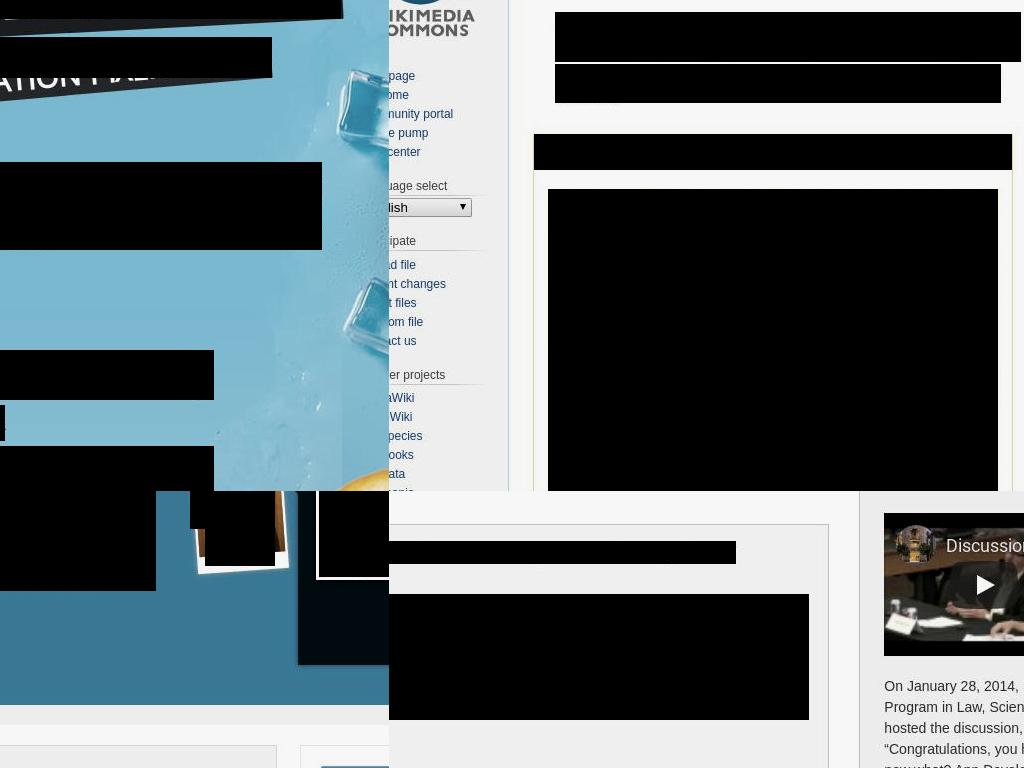button: (0, 350, 214, 400), (0, 446, 214, 491), (205, 491, 275, 566)
field: (389, 197, 473, 217)
heading: (389, 524, 830, 768), (389, 0, 513, 491), (0, 37, 272, 78), (389, 541, 736, 564), (389, 178, 491, 193), (389, 233, 491, 248), (389, 367, 491, 382)
iframe: (884, 513, 1024, 656)
image: (548, 189, 998, 491), (319, 491, 389, 577), (190, 491, 257, 529)
link: (555, 64, 1001, 103), (718, 64, 798, 81), (644, 64, 715, 81), (389, 106, 454, 121), (389, 276, 447, 291), (389, 125, 429, 140), (389, 314, 424, 329), (389, 429, 424, 444), (389, 144, 422, 159), (389, 295, 418, 310), (389, 333, 418, 348), (389, 257, 417, 272), (389, 68, 416, 83), (389, 391, 416, 406), (389, 448, 415, 463), (389, 410, 414, 425), (389, 87, 410, 102), (389, 467, 406, 482)
text: (389, 594, 809, 720), (0, 162, 322, 250), (555, 12, 1021, 62), (534, 134, 1012, 170), (0, 491, 156, 591), (798, 64, 929, 81), (555, 64, 646, 81)
